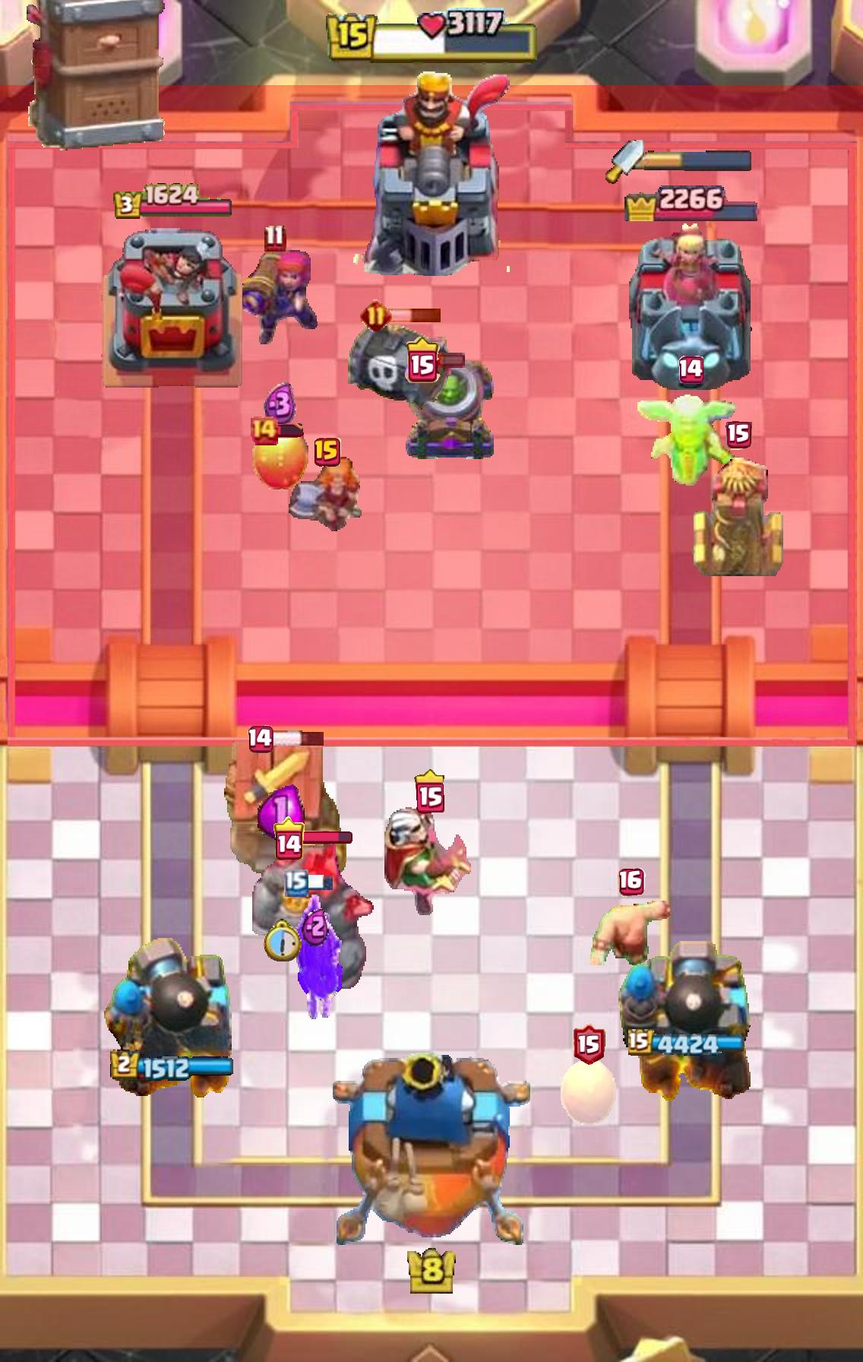bar: (270, 730, 326, 748), (388, 308, 441, 323), (301, 830, 352, 845), (437, 352, 466, 369), (275, 423, 304, 439)
bar-level: (405, 337, 440, 383), (273, 816, 304, 860), (414, 770, 444, 814), (574, 1024, 605, 1065), (360, 299, 392, 331), (248, 416, 279, 446), (618, 868, 646, 897), (725, 421, 752, 450), (314, 438, 341, 467), (248, 725, 275, 753), (678, 355, 704, 383), (264, 223, 286, 252)
